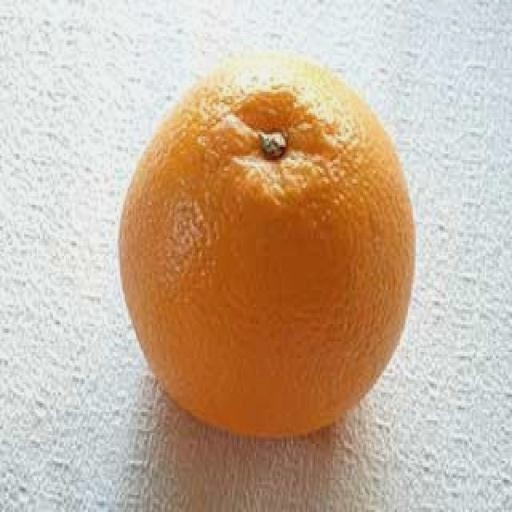fruit: (120, 55, 413, 435)
